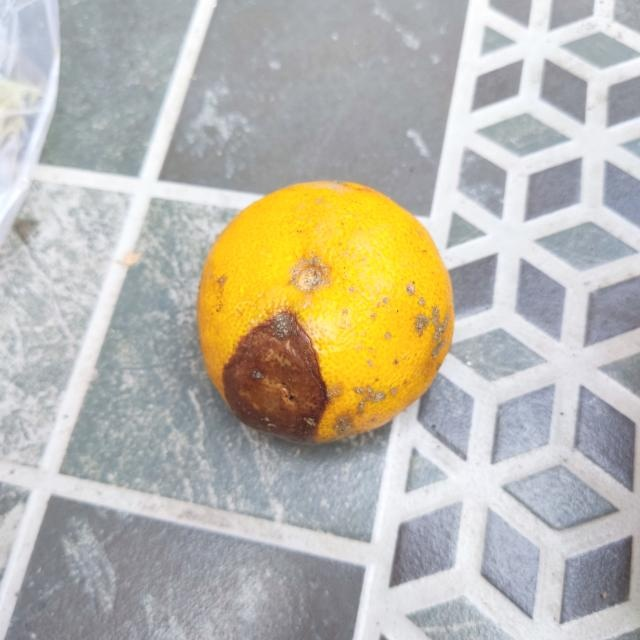agrume: (197, 177, 458, 443)
